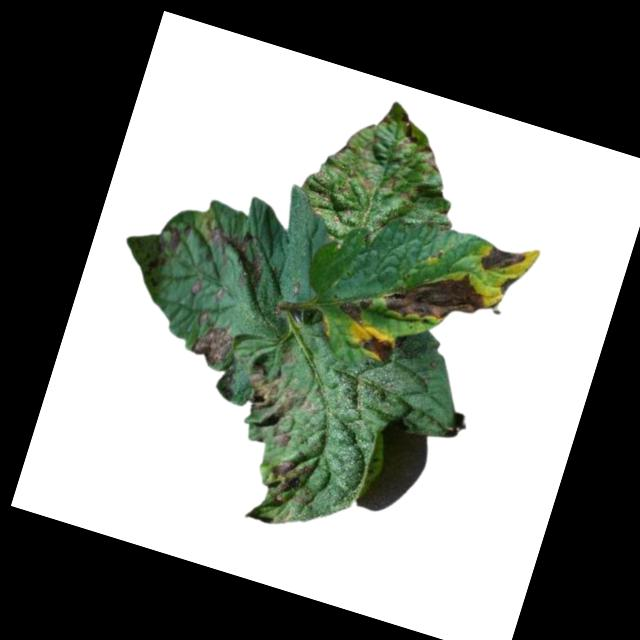Early_blight: (379, 251, 494, 342), (229, 364, 316, 452), (188, 216, 278, 296), (261, 452, 318, 509), (187, 320, 237, 373), (477, 239, 527, 281), (359, 327, 399, 368), (390, 111, 425, 157), (336, 290, 375, 327), (163, 218, 195, 254), (411, 143, 447, 173), (498, 273, 517, 298)
